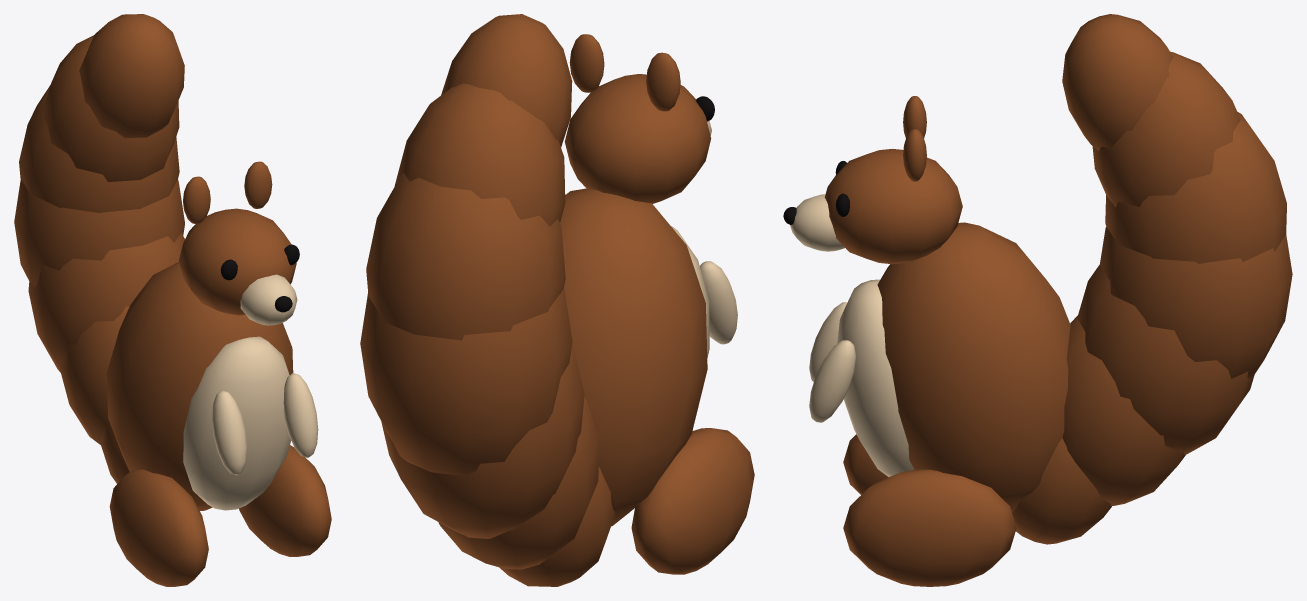
File: Squirrel.obj
The picture shows the model from 3 angles, left to right: view 1: azimuth 30°, elevation 25°; view 2: azimuth 150°, elevation 25°; view 3: azimuth 270°, elevation 25°; orthographic projection. The views are drawn at different scales.
Visible parts, largest first — view 1: Body, Tail; view 2: Tail, Body; view 3: Tail, Body.
Boxes of the visible parts, box(x1,y1,x2,y2) form: Body: box(106, 161, 331, 586); Tail: box(14, 14, 184, 483); Tail: box(360, 14, 615, 586); Body: box(560, 34, 754, 574); Tail: box(1012, 14, 1292, 544); Body: box(783, 96, 1070, 586).
Size of the model in its own units: 0.156 by 0.3938 by 0.3405.
